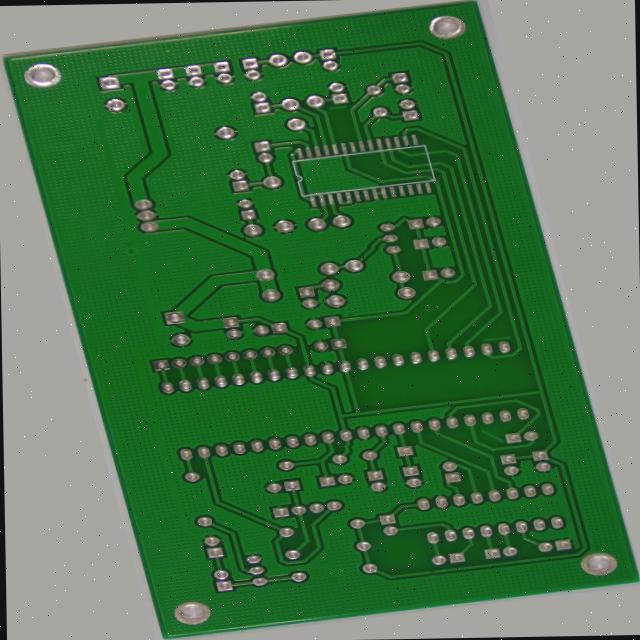spurious_copper: (482, 449, 519, 472), (514, 352, 555, 365), (393, 92, 426, 100)
